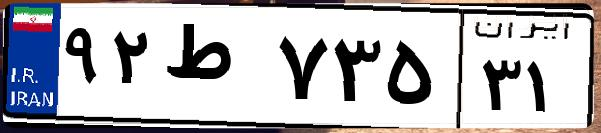1: (525, 38, 570, 115)
2: (110, 28, 158, 98)
3: (330, 28, 385, 110), (475, 38, 525, 113)
5: (385, 28, 445, 110)
7: (270, 28, 330, 110)
9: (57, 26, 110, 100)
ط: (158, 20, 270, 120)
